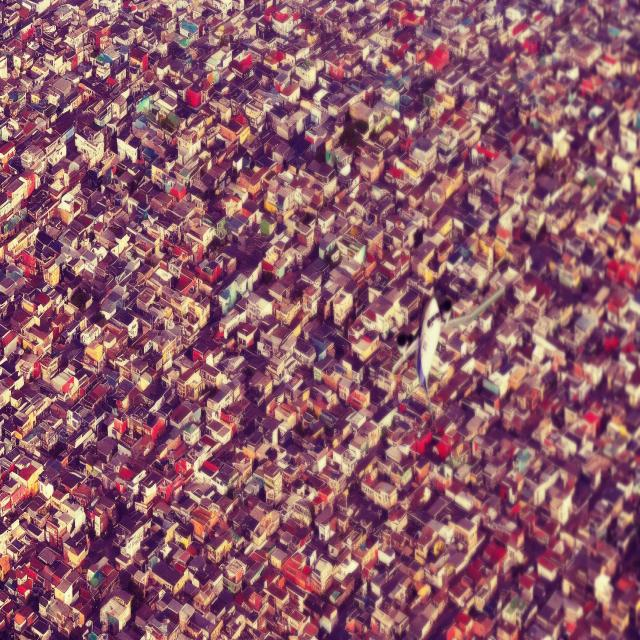airplane: (390, 283, 506, 423)
